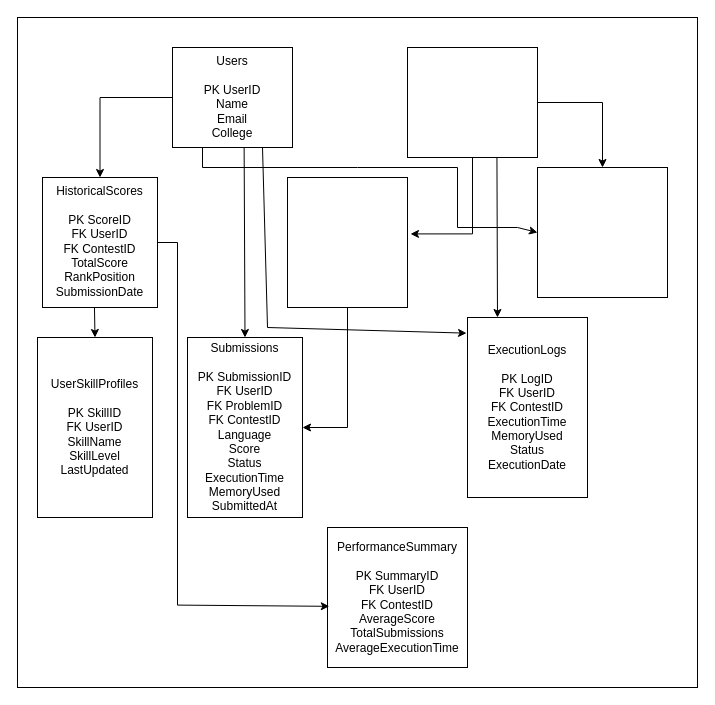
The diagram is 715 pixels wide and 705 high, and some of its shapes have lost their labels. The box of each missing label's shape, as (x1, y1, x2, y2) in pixels:
Contests PK ContestID ContestName ContestDate: (406, 46, 538, 158)
Leaderboard PK RankID FK UserID FK ContestID RankPosition TotalScore: (536, 166, 668, 298)
Problems PK ProblemID FK ContestID ProblemTitle Difficulty MaxScore: (286, 176, 408, 308)
